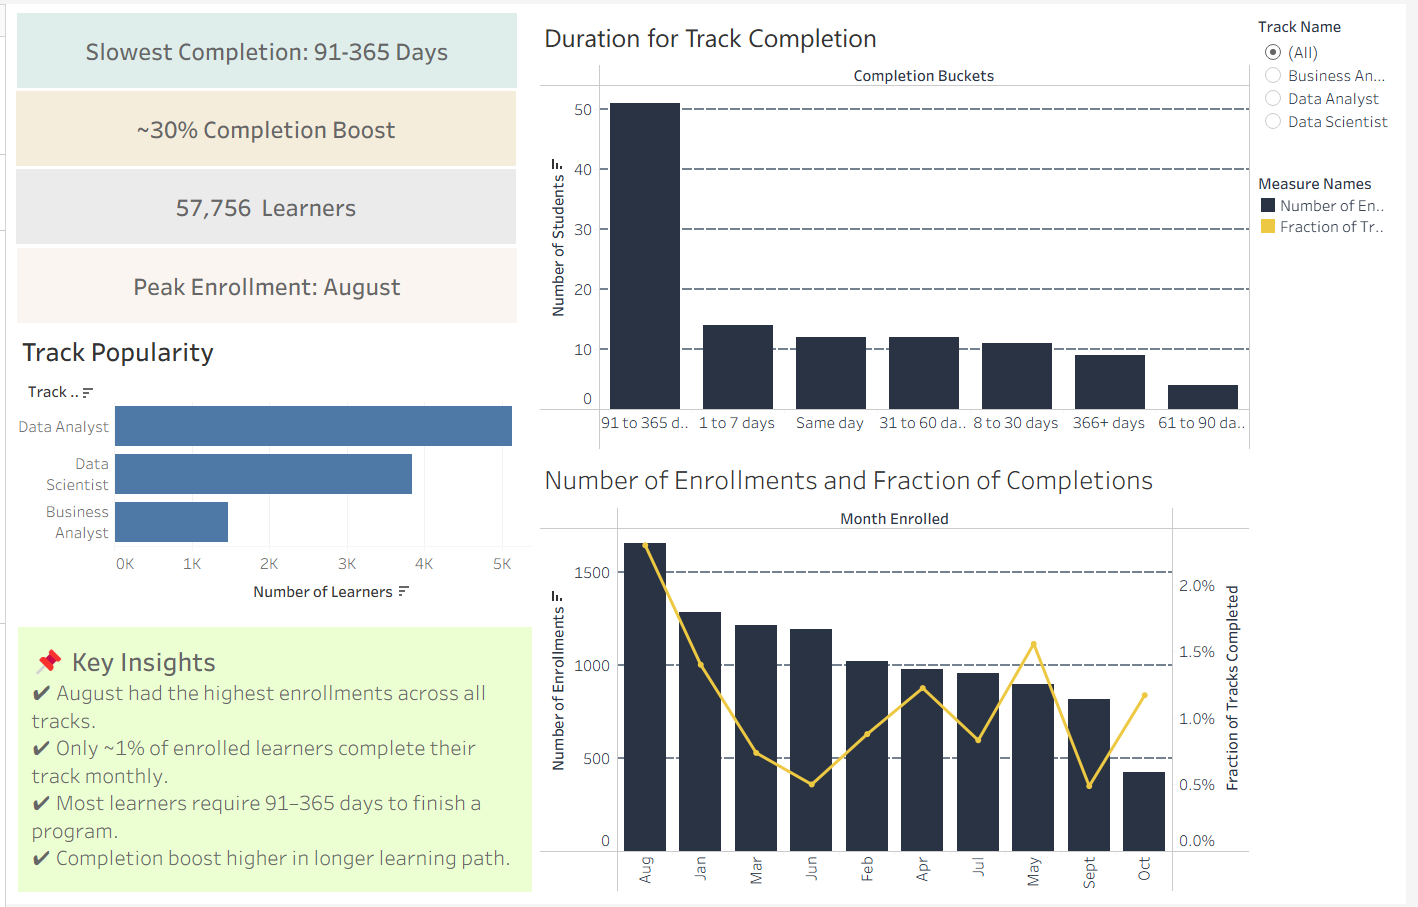

What the dashboard file says about the page in this screenshot:
{"tool":"tableau","page":{"name":"Dashboard 1","canvas":[1400,900],"ordinal":0},"visuals":[{"type":"text","box":[8,8,522,314]},{"type":"worksheet","title":"time for completion","mark":"Automatic","rows":["student_id"],"cols":["Calculation_1093811797159403521","completion_bucket"],"box":[530,8,718,442]},{"type":"filter","title":"number of completions","param":"[federated.0rtmk4g1kbvljl1ap9ief0somxgw].[none:track_name:nk]","box":[1248,8,144,128]},{"type":"text","box":[11,9,500,75]},{"type":"text","box":[10,87,500,75]},{"type":"text","box":[10,165,500,75]},{"type":"legend","title":"number of completions","param":"[federated.0rtmk4g1kbvljl1ap9ief0somxgw].[:Measure Names]","box":[1248,165,144,72]},{"type":"text","box":[11,244,500,75]},{"type":"worksheet","title":"Track Popularity","mark":"Automatic","rows":["track_name"],"cols":["student_id"],"box":[8,322,522,297]},{"type":"worksheet","title":"number of completions","mark":"Bar","rows":["student_track_id","Calculation_1093811797172948998"],"cols":["Calculation_1093811797159976964","date_enrolled"],"box":[530,450,718,442]},{"type":"text","box":[8,619,522,273]}]}

Visuals, with their boxes in screenshot pixels (x1, y1, x2, y2), scaled from the page's 1400x900 canvas onto the 1418x907 screenshot:
text: 8:8:537:325
"time for completion" worksheet: 537:8:1264:454
"number of completions" filter: 1264:8:1410:137
text: 11:9:518:85
text: 10:88:517:163
text: 10:166:517:242
"number of completions" legend: 1264:166:1410:239
text: 11:246:518:321
"Track Popularity" worksheet: 8:325:537:624
"number of completions" worksheet (Bar marks): 537:454:1264:899
text: 8:624:537:899
